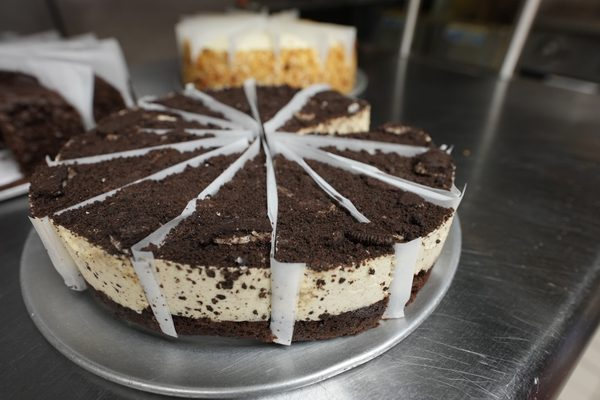curry: (30, 24, 599, 396)
sushi: (21, 82, 461, 344), (0, 68, 86, 172)
